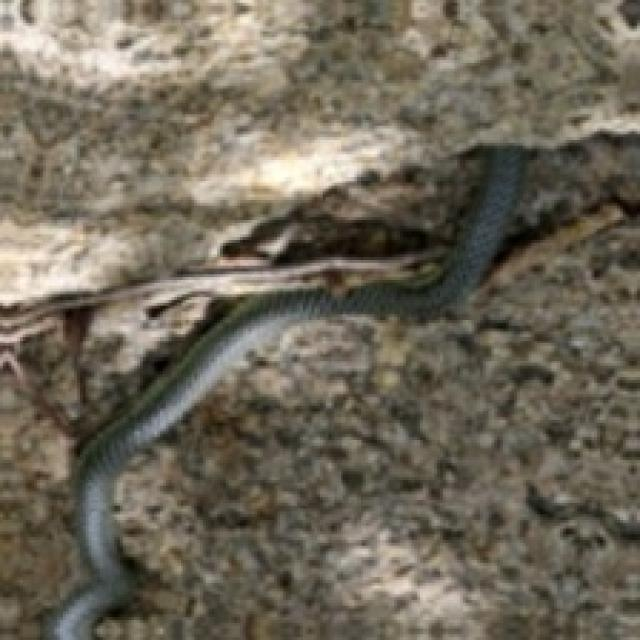paradise tree snake: (49, 146, 526, 637)
